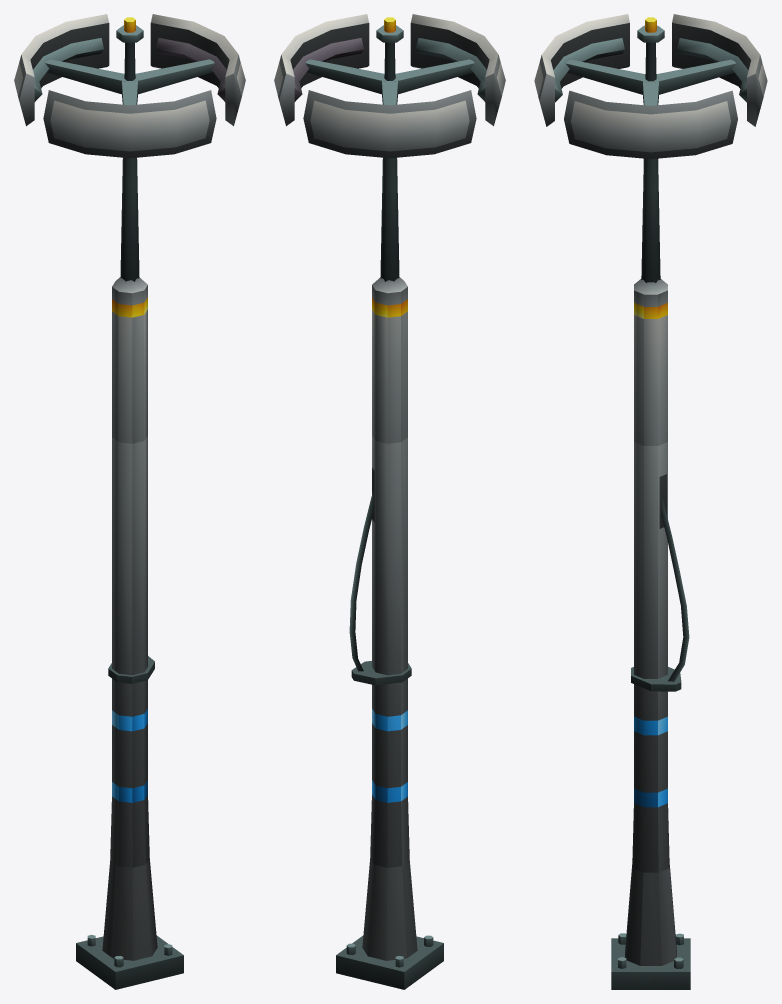
Rendered from Radar_1B.fbx.
The picture shows the model from 3 angles, left to right: view 1: azimuth 30°, elevation 25°; view 2: azimuth 150°, elevation 25°; view 3: azimuth 270°, elevation 25°; orthographic projection.
Parts seen in each view (by area): view 1: Radar_1B, Radar_1B_Dish; view 2: Radar_1B, Radar_1B_Dish; view 3: Radar_1B, Radar_1B_Dish.
Boxes of the visible parts, left/top/right/bottom form: Radar_1B: left=76, top=277, right=183, bottom=989; Radar_1B_Dish: left=14, top=14, right=245, bottom=281; Radar_1B: left=336, top=277, right=443, bottom=989; Radar_1B_Dish: left=274, top=14, right=505, bottom=281; Radar_1B: left=611, top=279, right=690, bottom=989; Radar_1B_Dish: left=534, top=14, right=767, bottom=282.
Size of the model in its own units: 582 by 2642 by 586.
